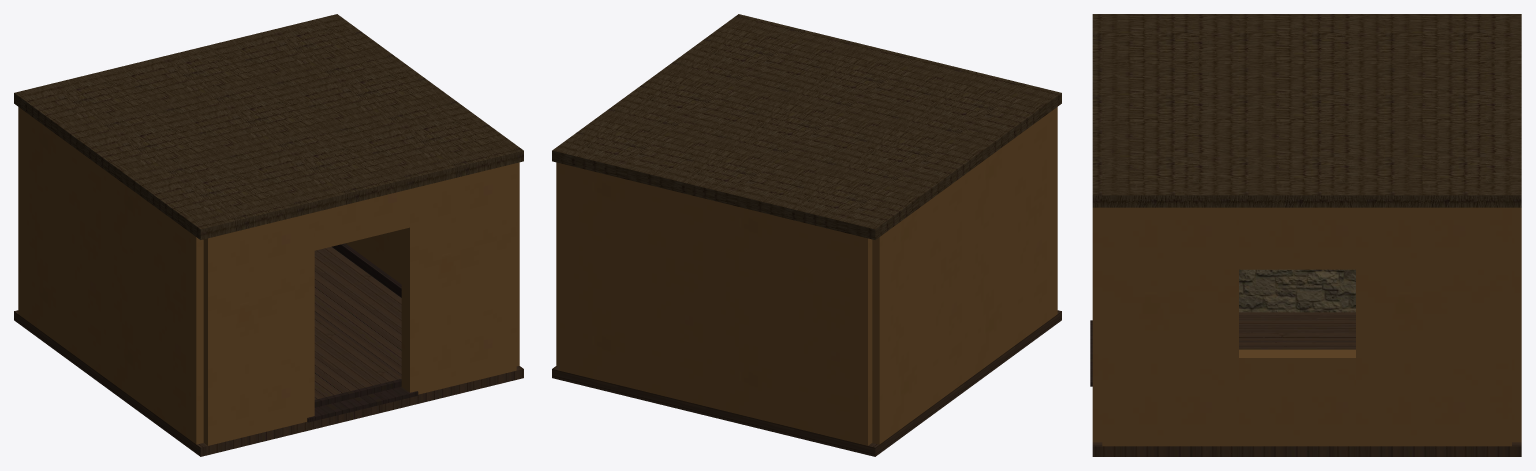
The model's file is int_forest_cottage_01.glb.
3 renders of one model, left to right at view 1: azimuth 30°, elevation 25°; view 2: azimuth 150°, elevation 25°; view 3: azimuth 270°, elevation 25°, orthographic. The views are drawn at different scales.
Parts seen in each view (by area): view 1: int_forest_cottage_01; view 2: int_forest_cottage_01; view 3: int_forest_cottage_01.
Boxes of the visible parts, box(x1,y1,x2,y2) form: int_forest_cottage_01: box(14, 14, 523, 456); int_forest_cottage_01: box(552, 14, 1061, 456); int_forest_cottage_01: box(1090, 14, 1521, 456).
Size of the model in its own units: 4.4 by 2.96 by 4.42.
Materials: 6 (6 with a texture image).
